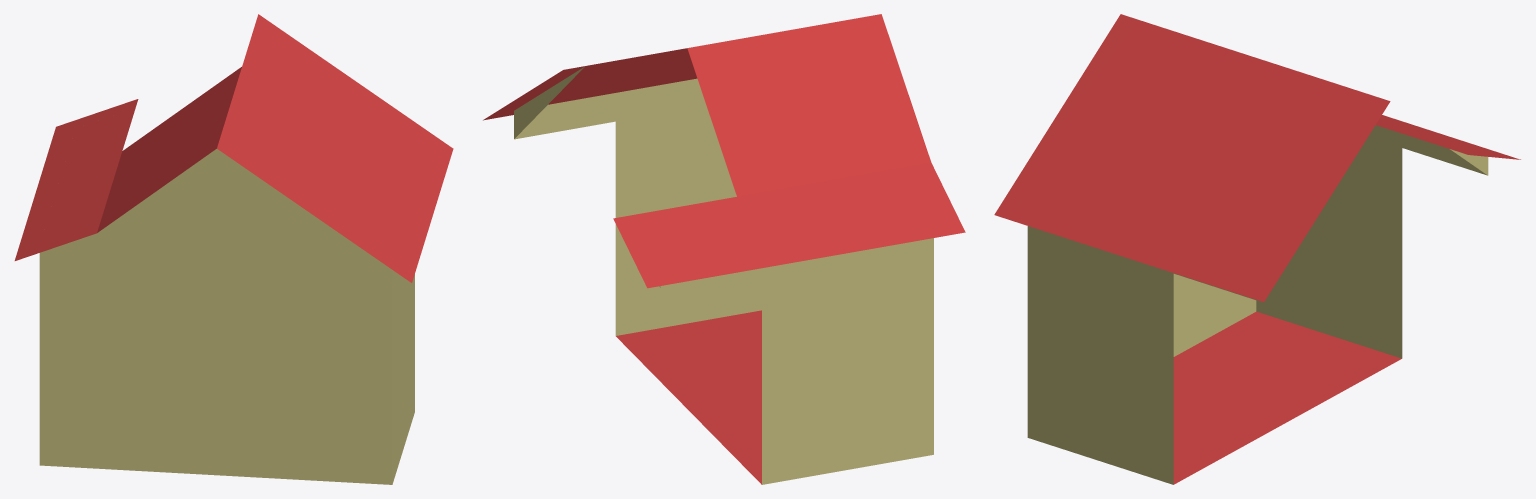
3 views of the same model, side by side, from view 1: azimuth 30°, elevation 25°; view 2: azimuth 150°, elevation 25°; view 3: azimuth 270°, elevation 25° (orthographic). The views are drawn at different scales.
Size of the model in its own units: 17.03 by 16.53 by 12.3.
